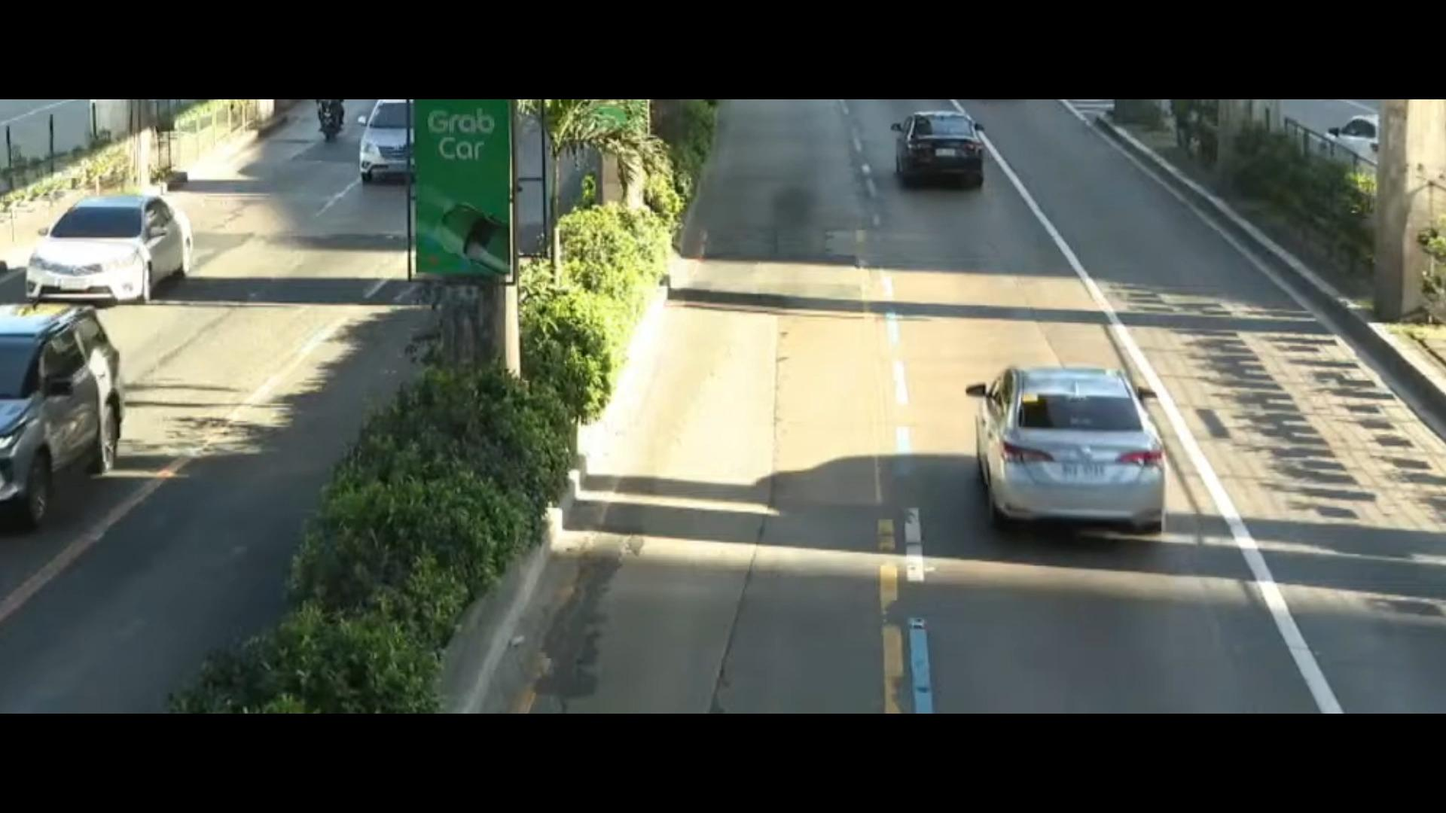Motorcycle: (307, 104, 340, 138)
SUV: (0, 300, 132, 542), (354, 105, 418, 187)
Sedan: (957, 335, 1168, 568), (0, 187, 223, 304), (861, 110, 1024, 187)
